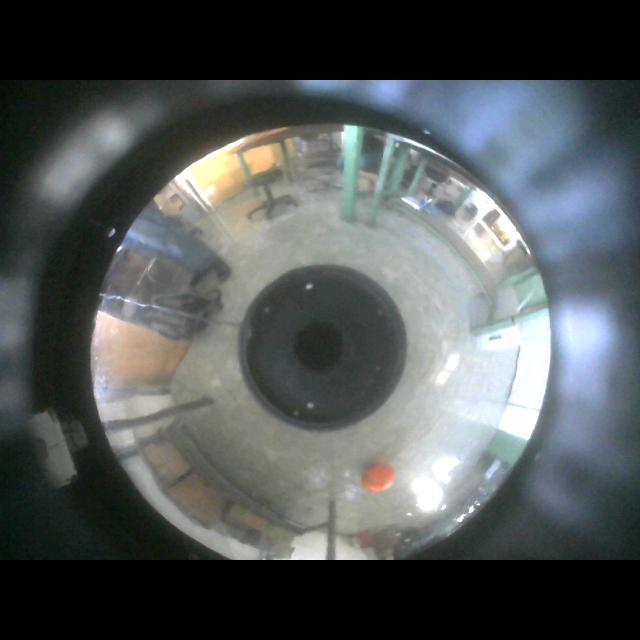bola: (361, 464, 395, 491)
